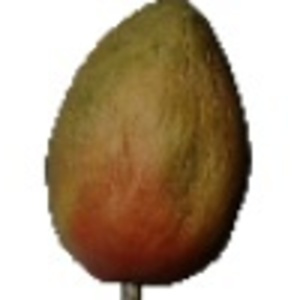mamão: (41, 2, 255, 289)
